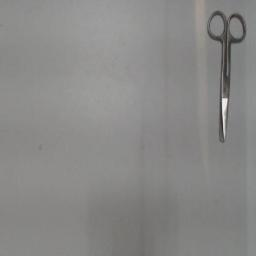Dressing Scissors: (202, 7, 250, 147)
